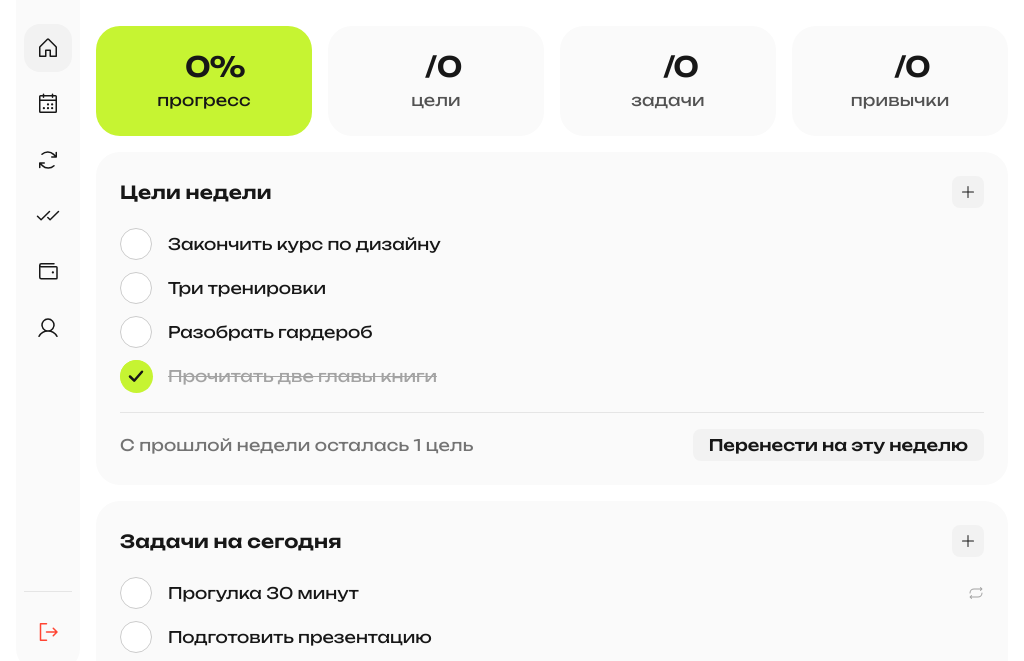
Test case: трекер на демо-данных › Главная: открывается и принимает новую задачу
This screenshot has width=1024, height=661.
Click the button named "Добавить задачу" at (968, 541), box [952,525,984,557]
(page scrolled)
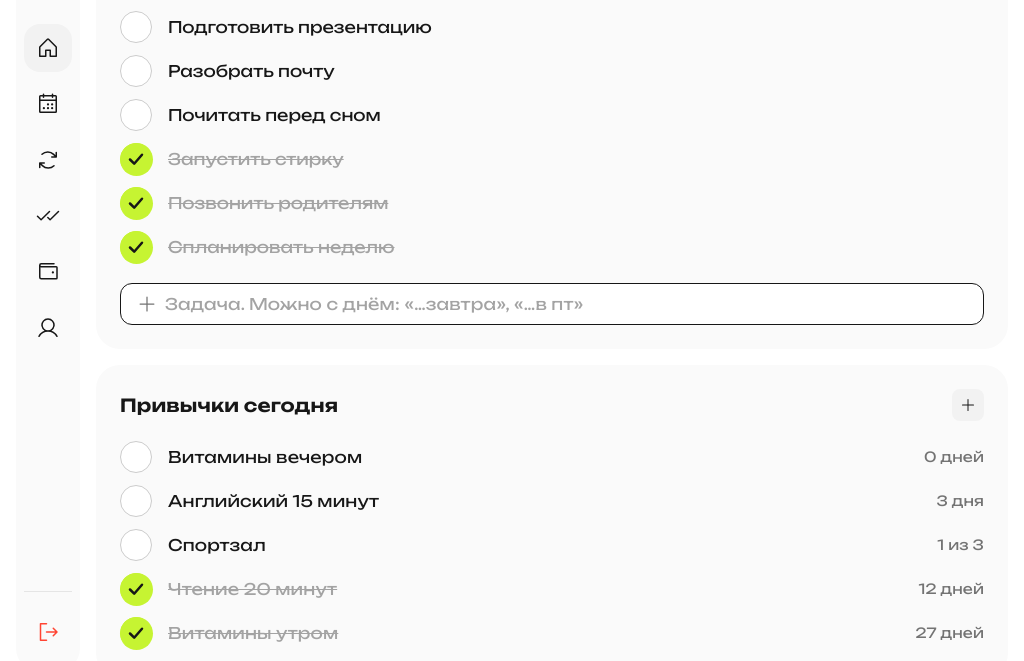
Type "Полить цветы" into the text box named "Добавить задачу" at (566, 304), box [165,292,967,316]
Then press Enter
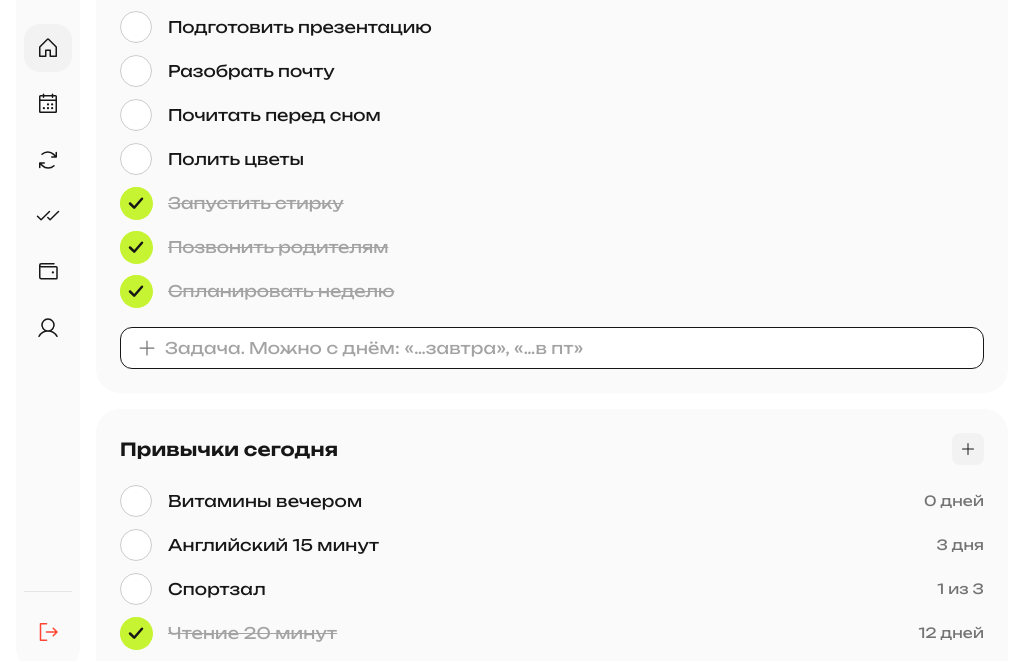
Result: the button "Полить цветы" is shown at [168,147,984,171]
